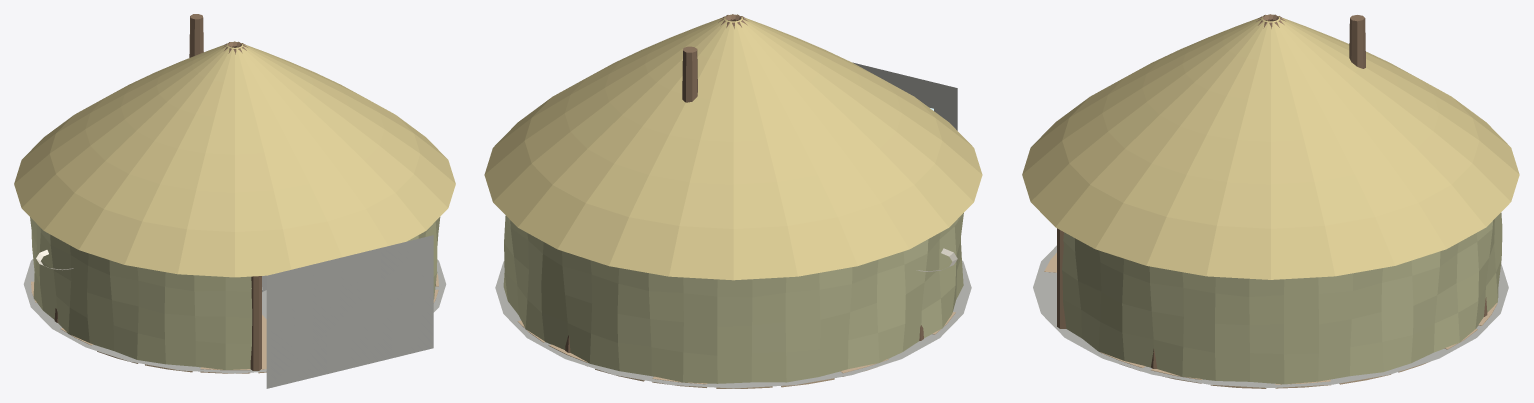
File: int_hut.glb
3 renders of one model, left to right at view 1: azimuth 30°, elevation 25°; view 2: azimuth 150°, elevation 25°; view 3: azimuth 270°, elevation 25°, orthographic. The views are drawn at different scales.
Visible parts, largest first — view 1: hut_shell, col; view 2: hut_shell, col; view 3: hut_shell, col.
Boxes of the visible parts, x1=… form: hut_shell: x1=14, y1=14, x2=455, y2=373; col: x1=23, y1=235, x2=446, y2=388; hut_shell: x1=484, y1=14, x2=982, y2=388; col: x1=495, y1=62, x2=971, y2=388; hut_shell: x1=1022, y1=14, x2=1519, y2=388; col: x1=1033, y1=245, x2=1508, y2=387.
Bounding box in the file's own units: 9.3 × 5.59 × 9.4.
